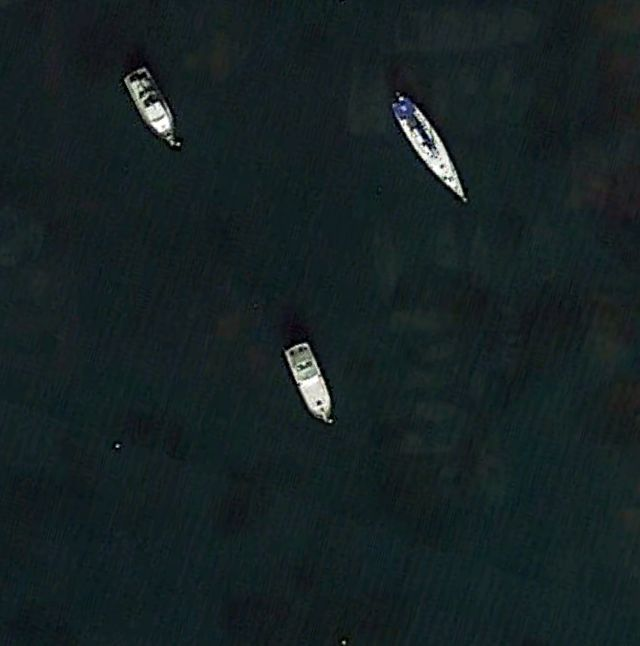boat: (389, 91, 468, 203), (122, 63, 181, 152), (283, 340, 336, 425)
